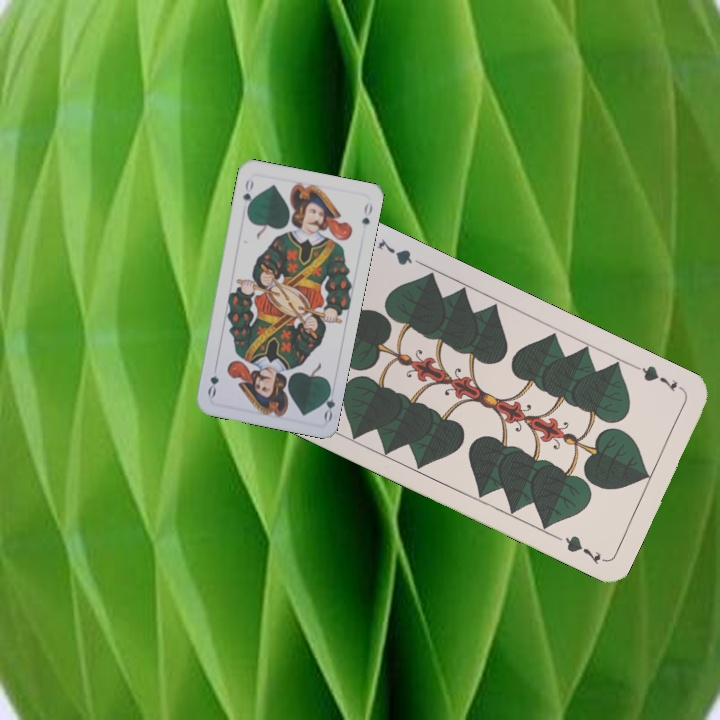G7: (631, 361, 680, 395)
GO: (317, 382, 338, 423), (238, 175, 256, 214)
